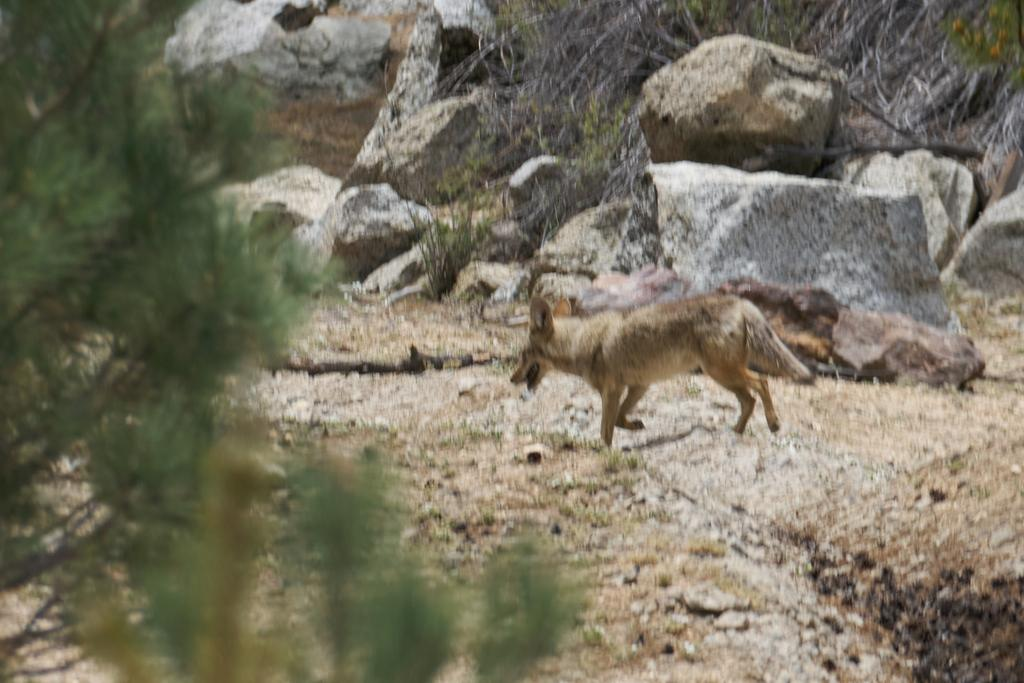Coyote: (510, 286, 814, 453)
